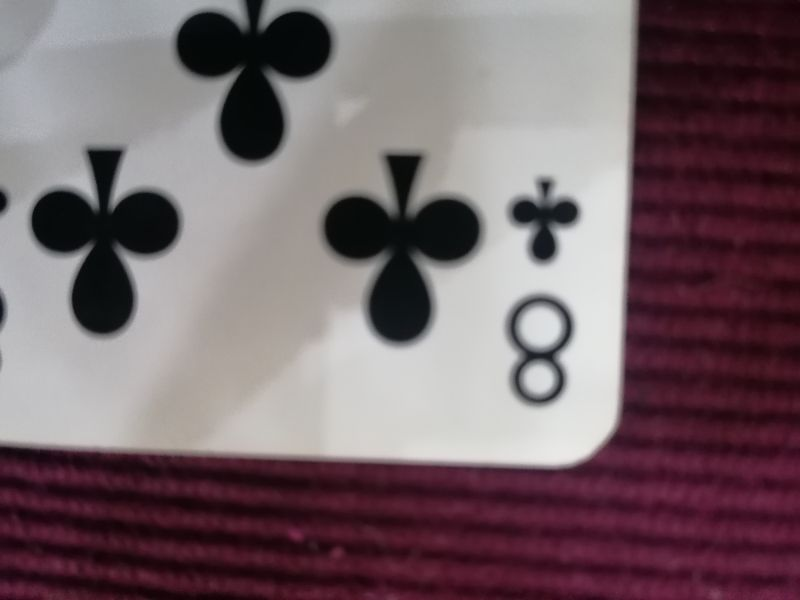8c: (493, 163, 587, 414)
